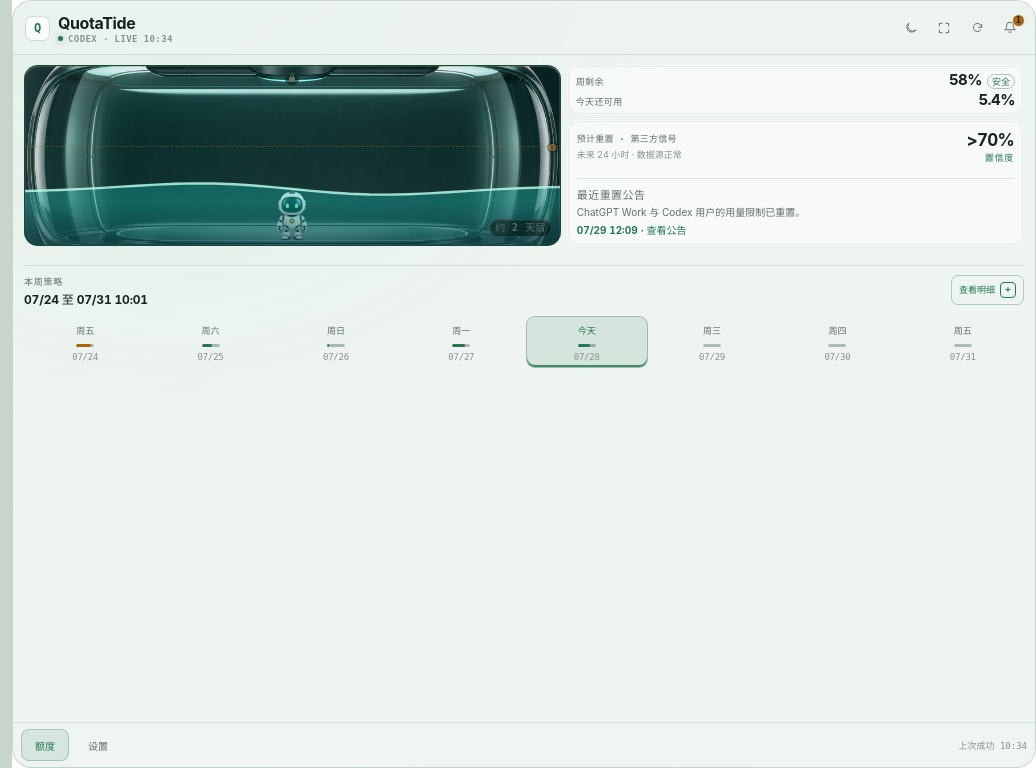
Test: Weekly Ledger overview › keeps a safe in-app error visible when system notification delivery fails
The width and height of the screenshot is (1036, 768).
Click the button named "打开消息": (1010, 28) top-left (994, 12), bottom-right (1026, 44)
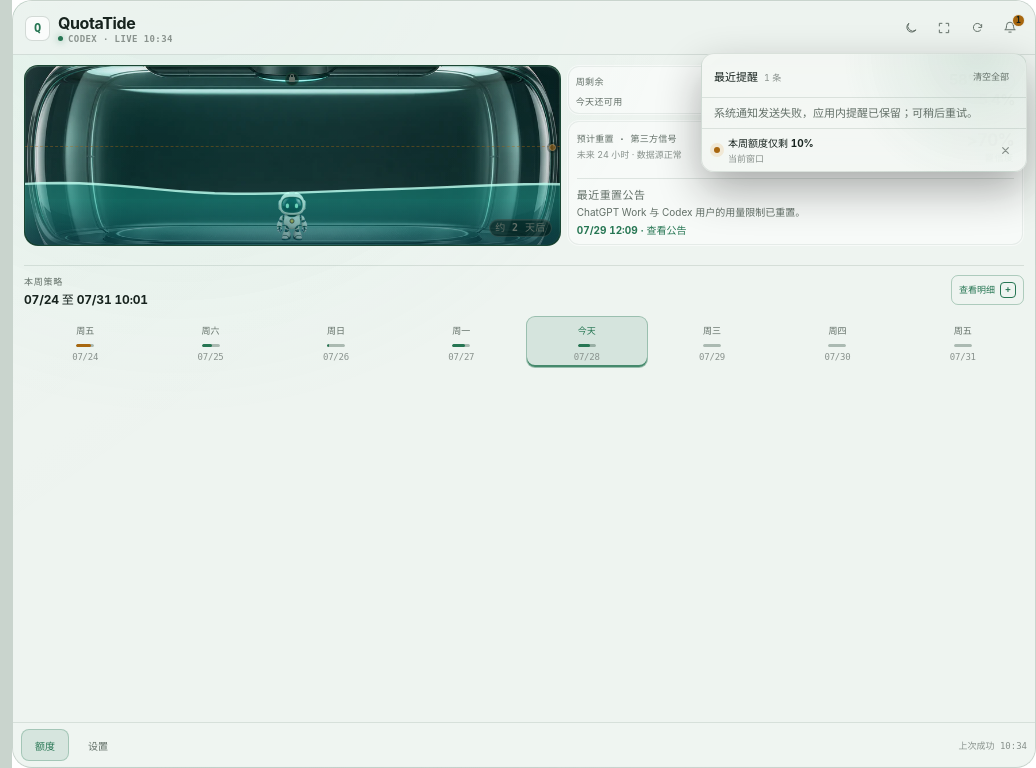
Expected: the element "最近提醒" shows "本周额度仅剩 10%", top-left (728, 137), bottom-right (814, 149)
Expected: the text "系统通知发送失败，应用内提醒已保留；可稍后重试。" is shown, top-left (702, 99), bottom-right (1026, 129)
